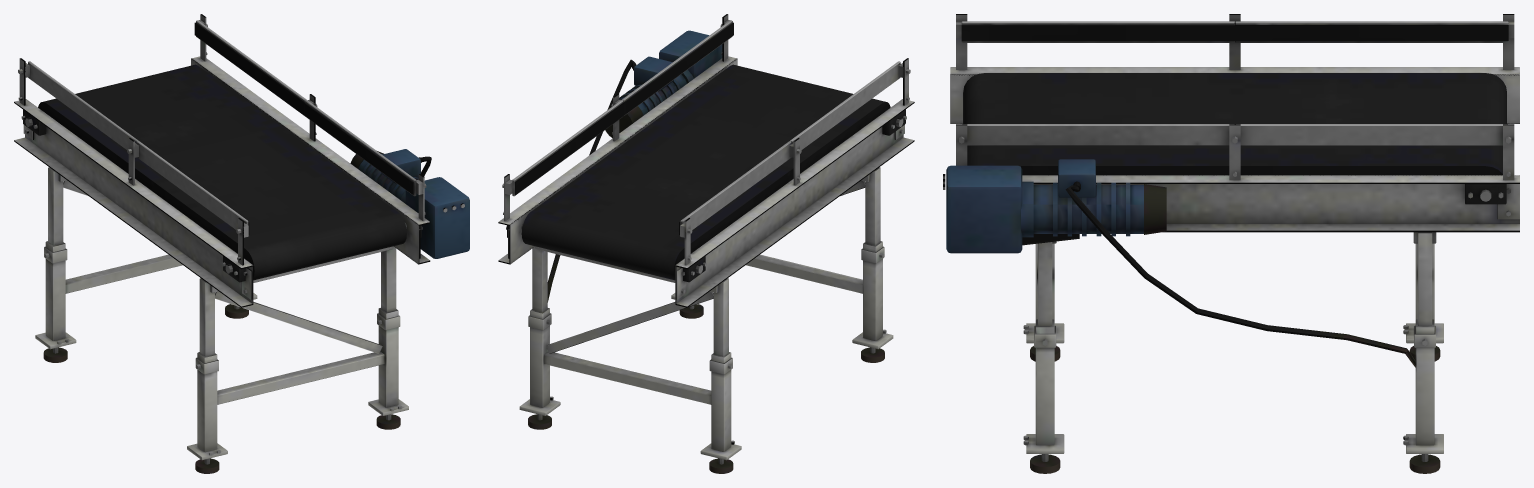
Rendered from conveyor-belt-transfer-v1-lod0.glb.
3 renders of one model, left to right at view 1: azimuth 30°, elevation 25°; view 2: azimuth 150°, elevation 25°; view 3: azimuth 270°, elevation 25°, orthographic. The views are drawn at different scales.
Parts seen in each view (by area): view 1: module_transfer_mesh; view 2: module_transfer_mesh; view 3: module_transfer_mesh.
Part boxes in pixels (x1,y1,x2,y2): module_transfer_mesh: (14,14,469,473); module_transfer_mesh: (498,14,914,473); module_transfer_mesh: (943,14,1519,473).
Bounding box in the file's own units: 0.966 × 0.9949 × 1.52.
Materials: 1 (1 with a texture image).
